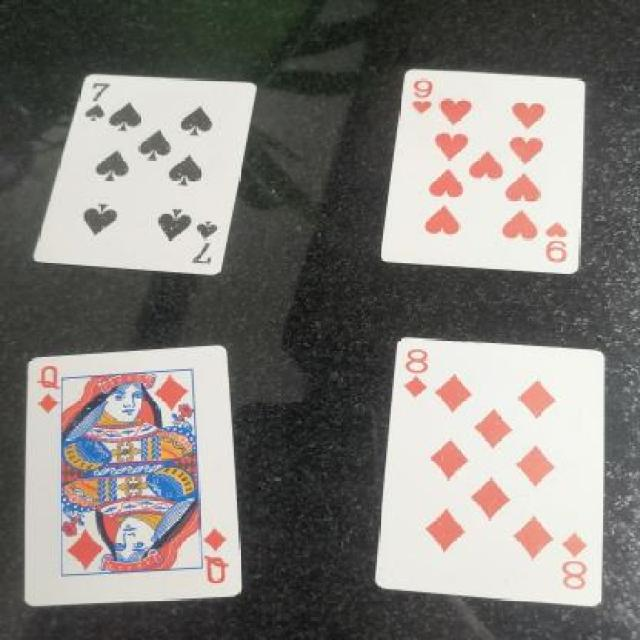7S: (64, 81, 119, 133)
8D: (560, 529, 596, 592), (400, 340, 433, 404)
9H: (406, 72, 442, 112)
QD: (30, 362, 73, 422)
